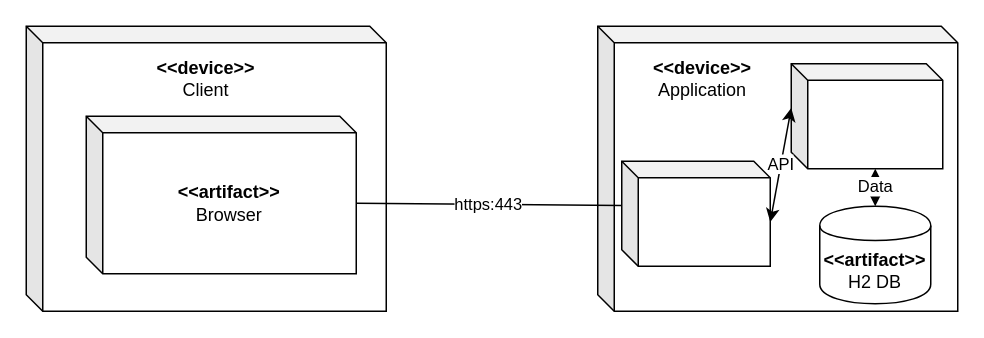
Image size: 984x338. Some labels were removed from this diagram. Here are the shapes that lost their labels. From the top down, the box of each, then its label:
(790, 62, 943, 169): <<artifact>> Backend: 8080
(620, 160, 770, 266): <<artifact>> Frontend: 8081
